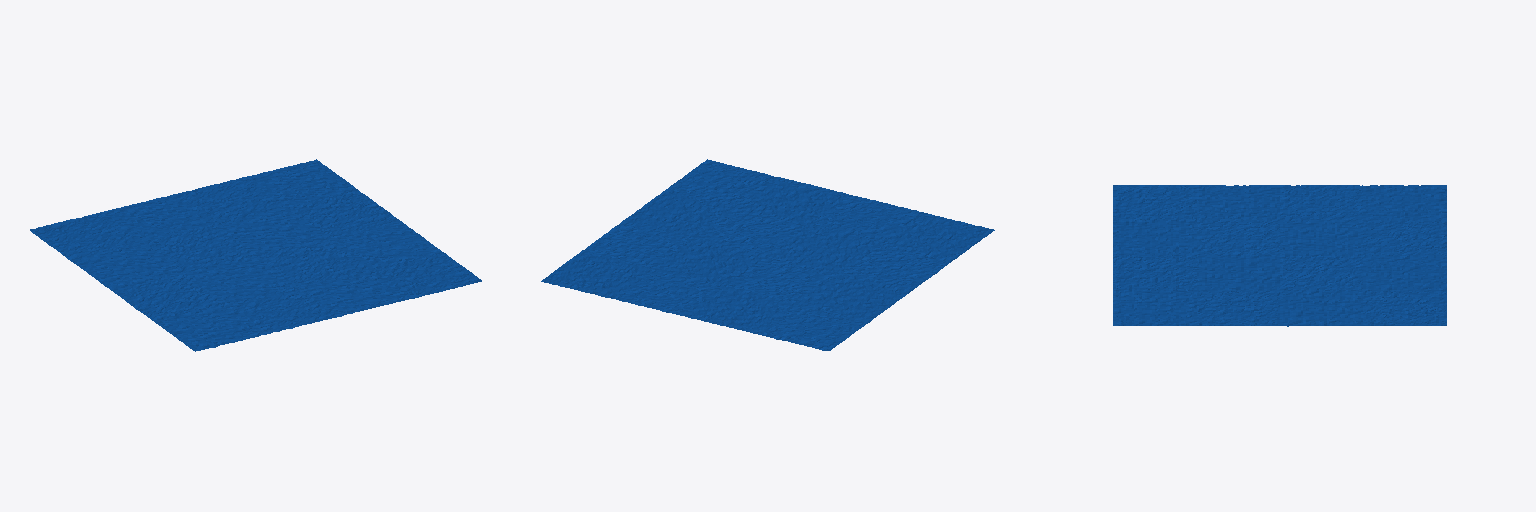
The model's file is scenery_water.obj.
The picture shows the model from 3 angles: view 1: azimuth 30°, elevation 25°; view 2: azimuth 150°, elevation 25°; view 3: azimuth 270°, elevation 25°; orthographic projection.
Parts seen in each view (by area): view 1: Plane; view 2: Plane; view 3: Plane.
Part boxes in pixels (x1,y1,x2,y2): Plane: (30, 159, 481, 351); Plane: (541, 159, 994, 350); Plane: (1113, 185, 1446, 326).
Size of the model in its own units: 920 by 4.38 by 920.